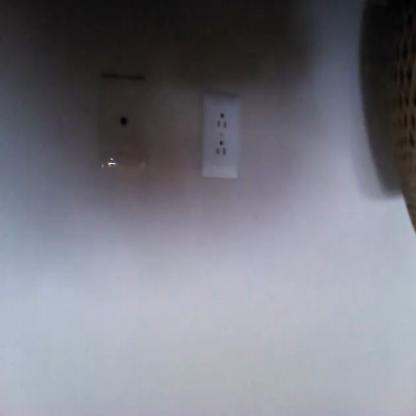OUTLET: (202, 92, 240, 179)
